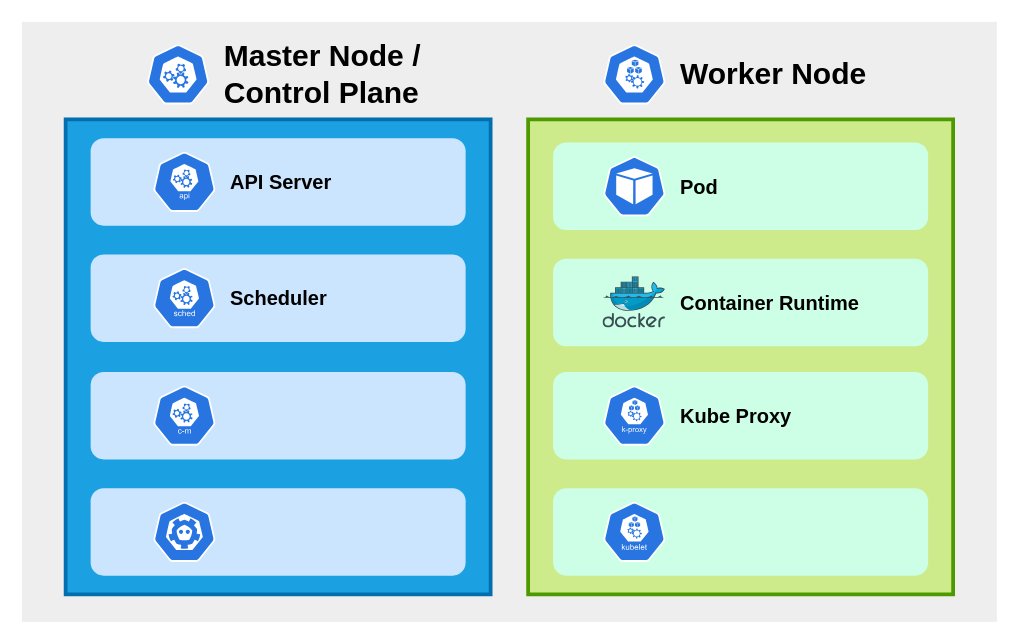
This 1018x643 diagram has some shape labels left out. The shapes that lost their labels are listed below. From the top down, each one's centre as x and y in pixels, then its label:
At point (184, 415): "Controller Manager".
At point (184, 531): "ETCD".
At point (634, 531): "Kubelet".
